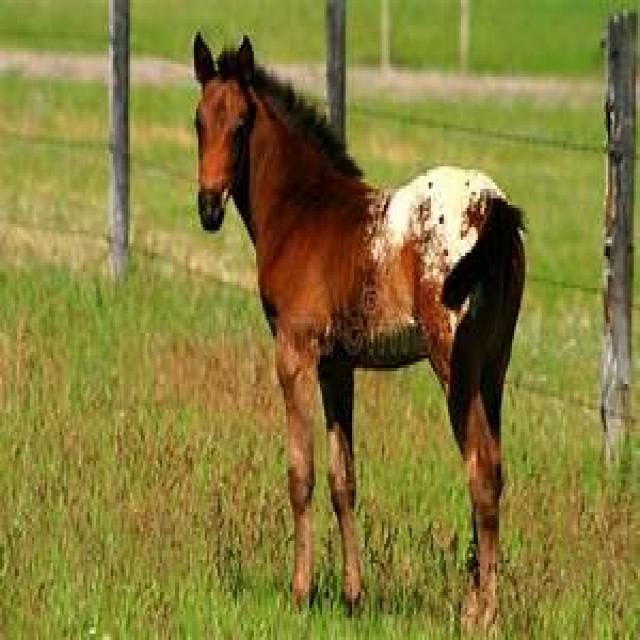horse: (194, 35, 529, 630)
